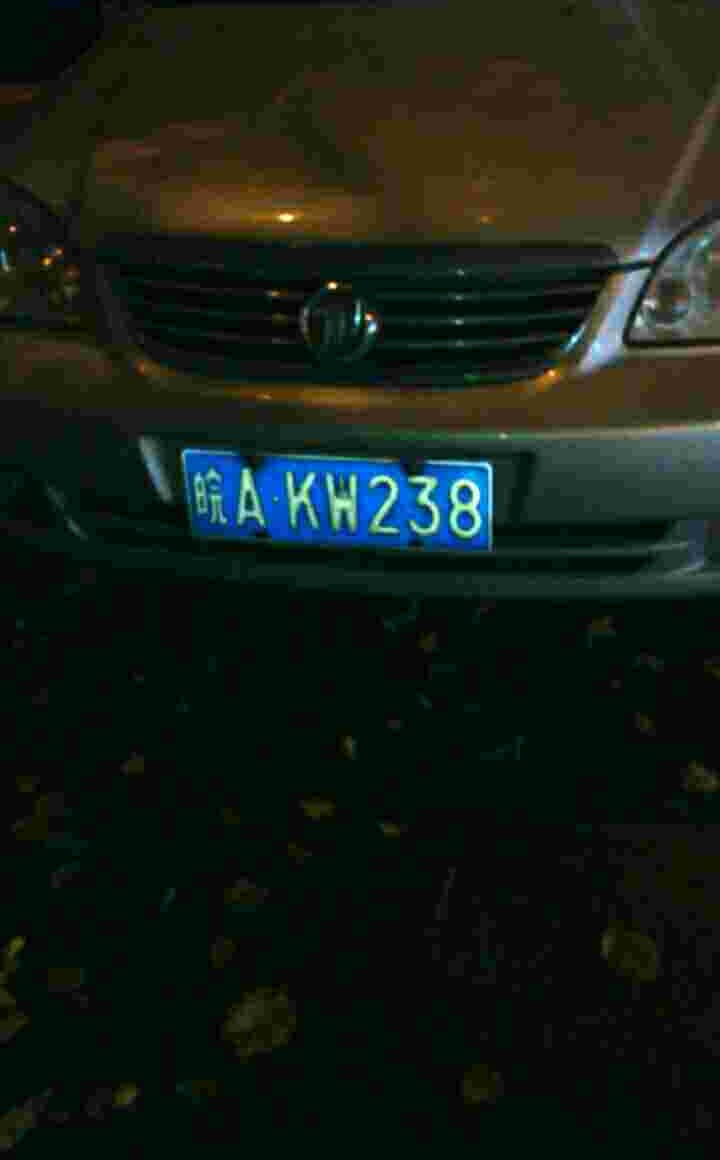license_plate: (178, 446, 494, 564)
